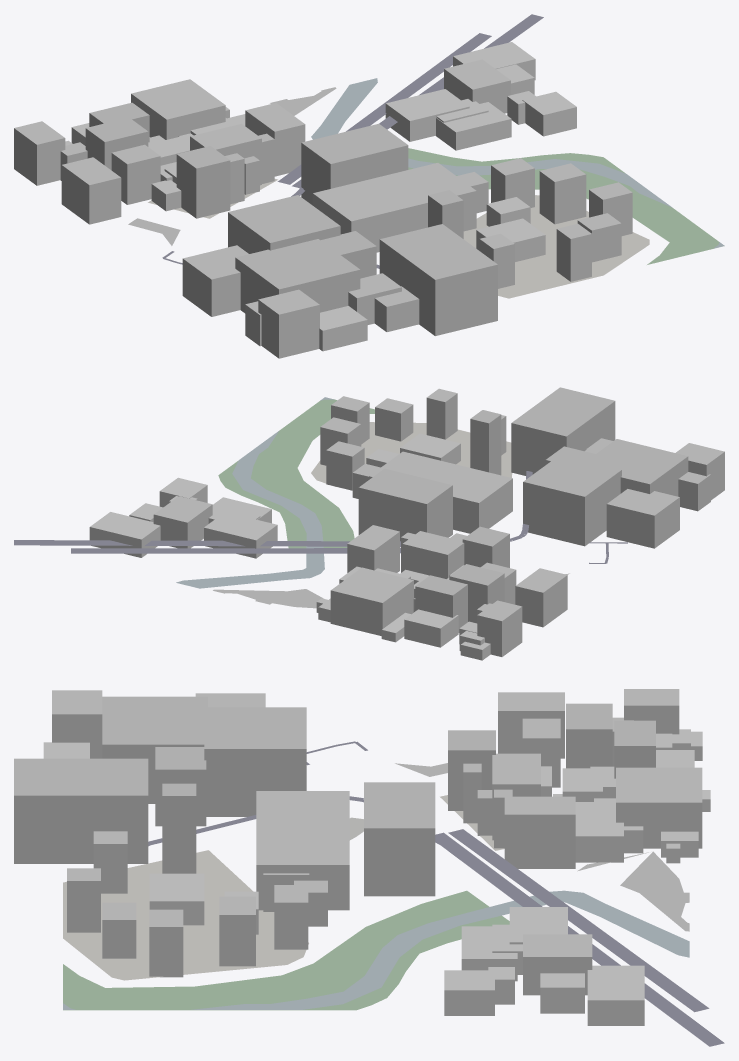
The model's file is 124_108_mid.glb.
3 views of the same model, one above another, from view 1: azimuth 30°, elevation 25°; view 2: azimuth 150°, elevation 25°; view 3: azimuth 270°, elevation 25° (orthographic). The views are drawn at different scales.
Size of the model in its own units: 608 by 74.28 by 567.
